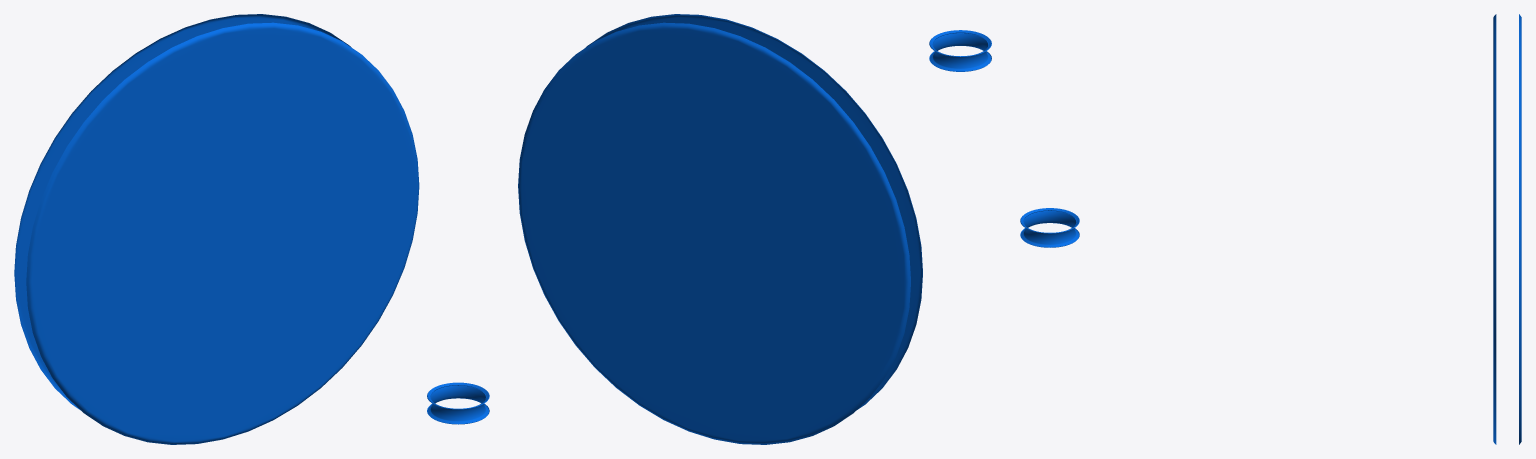
The picture shows the model from 3 angles, left to right: view 1: azimuth 30°, elevation 25°; view 2: azimuth 150°, elevation 25°; view 3: azimuth 270°, elevation 25°; orthographic projection. The views are drawn at different scales.
Size of the model in its own units: 0.682 by 0.682 by 0.793.
